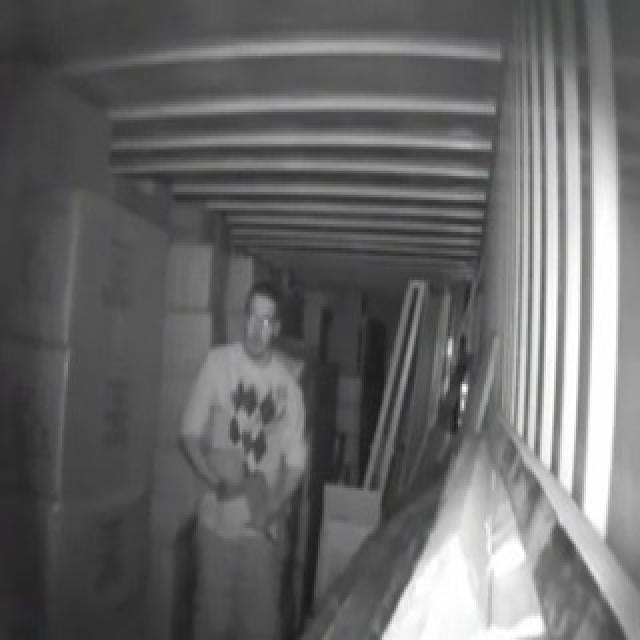thief: (217, 283, 306, 619)
